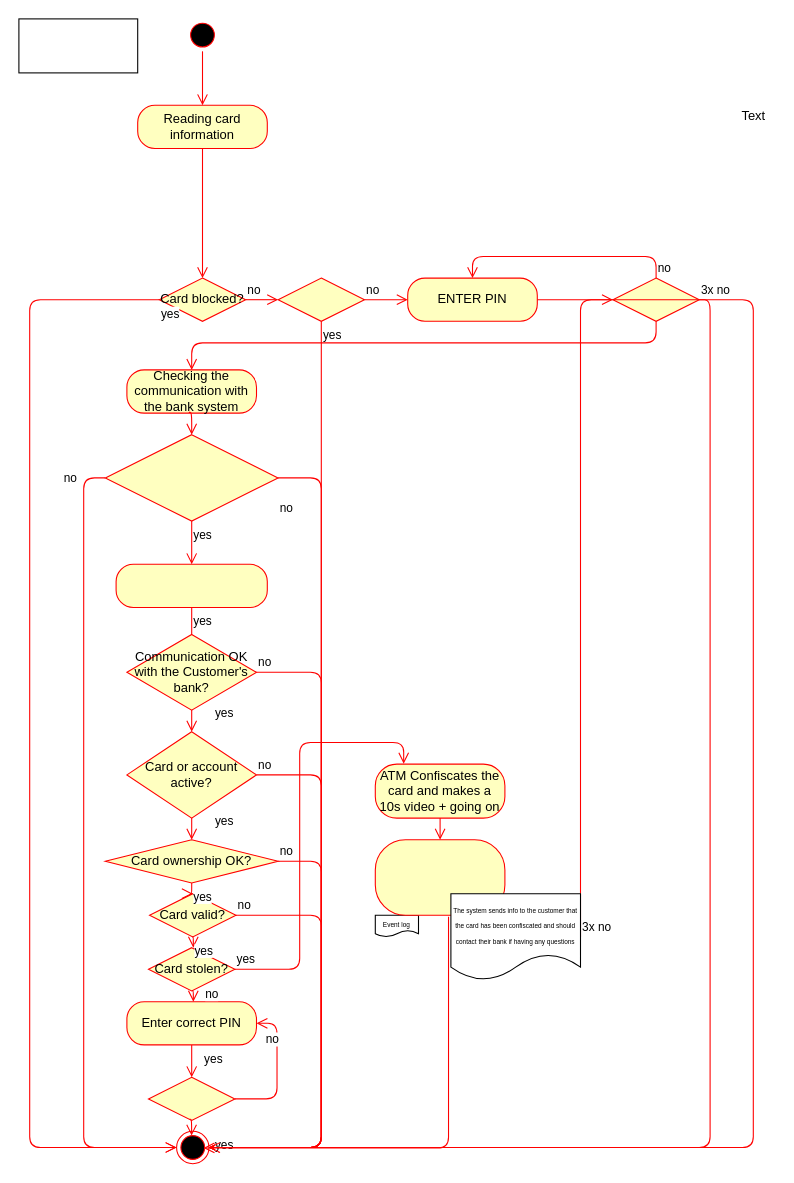
Image size: 794x1183. Some labels were removed from this diagram. The centre of each missing label's shape, as x and y in pixels:
"Card expired?" goes at (x=320, y=299).
"Checking the communication with the Customer's Bank" goes at (x=191, y=585).
"Communication with the bank system OK?" goes at (x=191, y=477).
"Correct PIN entered?" goes at (x=191, y=1098).
"Customer Authentication" goes at (x=78, y=45).
"PIN OK?" goes at (x=655, y=299).
"System delays for 5 minutes indicating that the system is busy" goes at (x=439, y=877).
